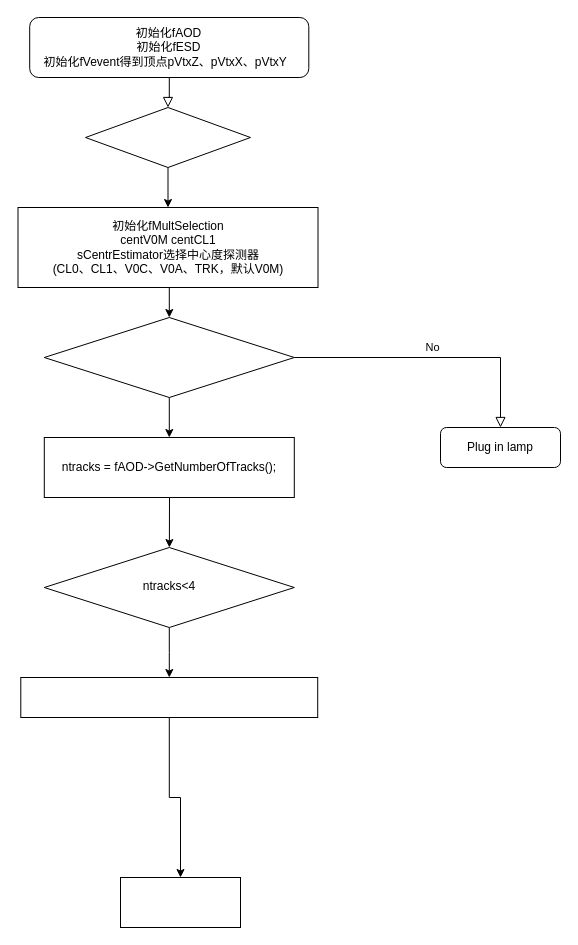
This 578x945 diagram has some shape labels left out. The centre of each missing label's shape, as x and y in pixels:
centrality<0 或 centrality>90: (x=168, y=357)
Int_t runNumber = fAOD->GetRunNumber(): (x=169, y=697)
pVtxZ Cut: (x=167, y=137)
